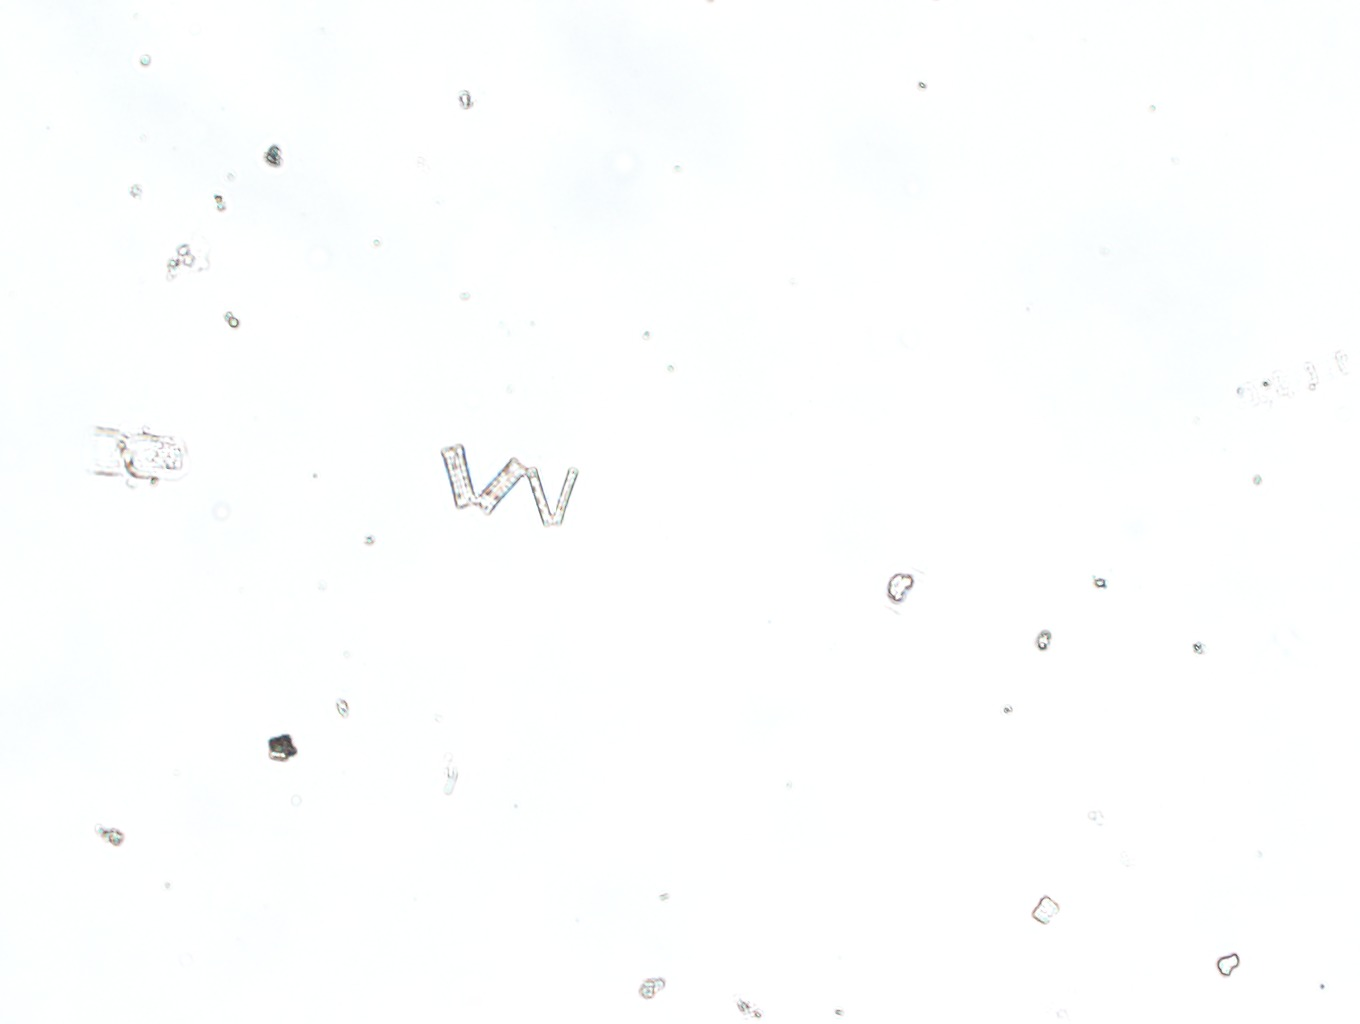thalassionema nitzschioides: (432, 439, 582, 531)
